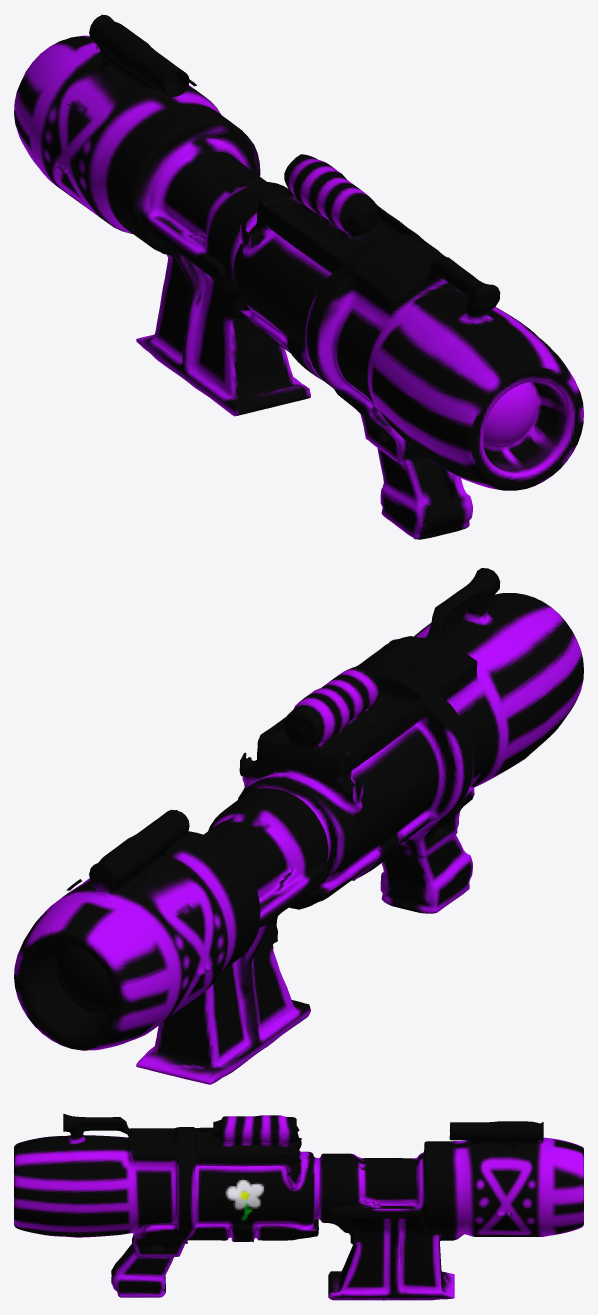
File: РакетницаТ.fbx
3 renders of one model, top to bottom at view 1: azimuth 30°, elevation 25°; view 2: azimuth 150°, elevation 25°; view 3: azimuth 270°, elevation 25°, orthographic. The views are drawn at different scales.
Visible parts, largest first — view 1: model; view 2: model; view 3: model.
Boxes of the visible parts, bbox=[...] form: model: bbox=[14, 14, 583, 539]; model: bbox=[14, 568, 583, 1084]; model: bbox=[14, 1113, 583, 1300].
Bounding box in the file's own units: 37.59 × 64.51 × 190.
